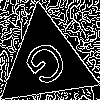G: (20, 36, 77, 97)
